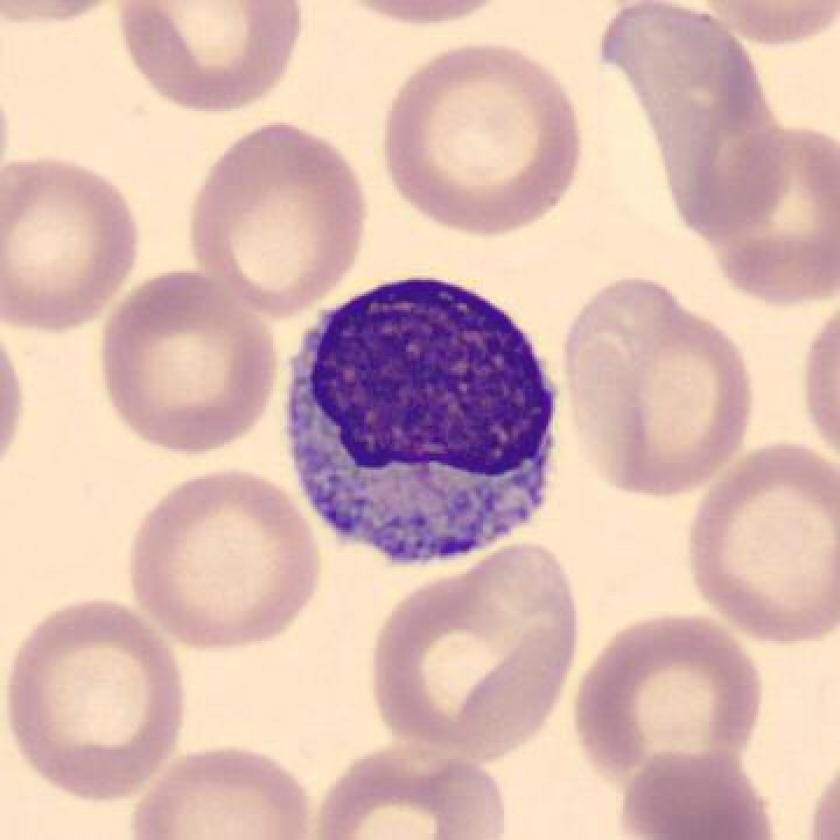lymphocyte: (267, 263, 584, 580)
